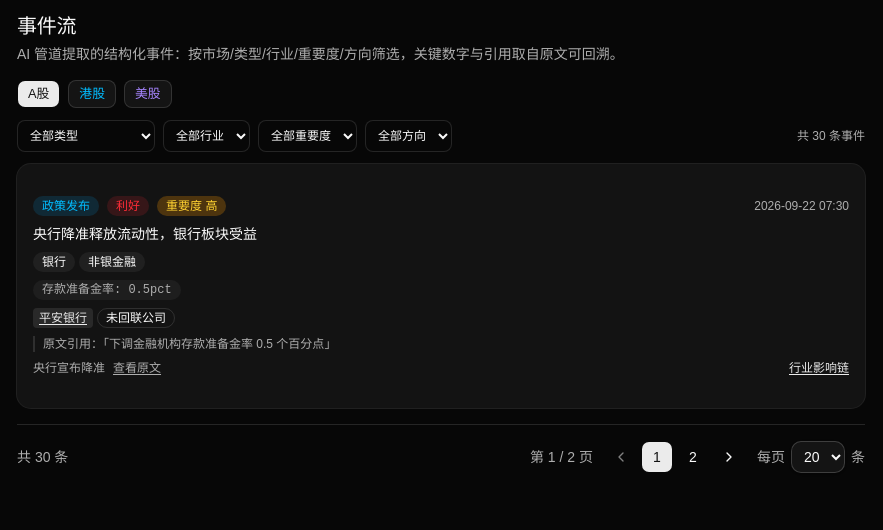
Test: Events 事件流页（T127 + T224 分页化，#/events） › 翻页失败：列表数据保留 + 错误可见可重试，重试成功后落到目标页
expect the element with test id "event-card-9" is shown: met, box [17,164,865,408]
Click the button with test id "events-pagination-page-2" at (693, 457), box [677,441,709,473]
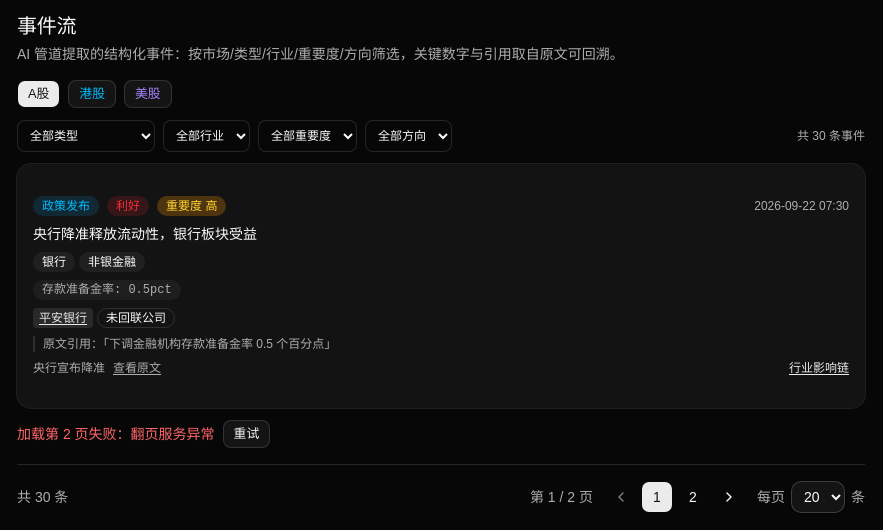
expect the element with test id "event-card-9" is shown: met, box [17,164,865,408]
expect the element with test id "events-pagination-error" shows "加载第 2 页失败": met, box [17,420,270,448]
Click the button with test id "events-pagination-retry" at (246, 434), box [223,420,270,448]
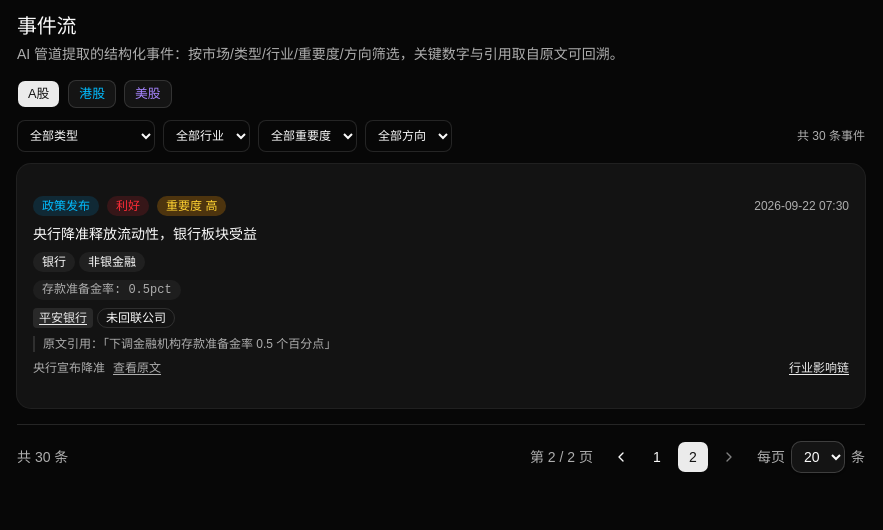
expect the element with test id "event-card-8" is shown: met, box [17,164,865,408]
expect the text with test id "events-pagination-page-indicator" shows "2 / 2": met, box [530,447,593,467]
